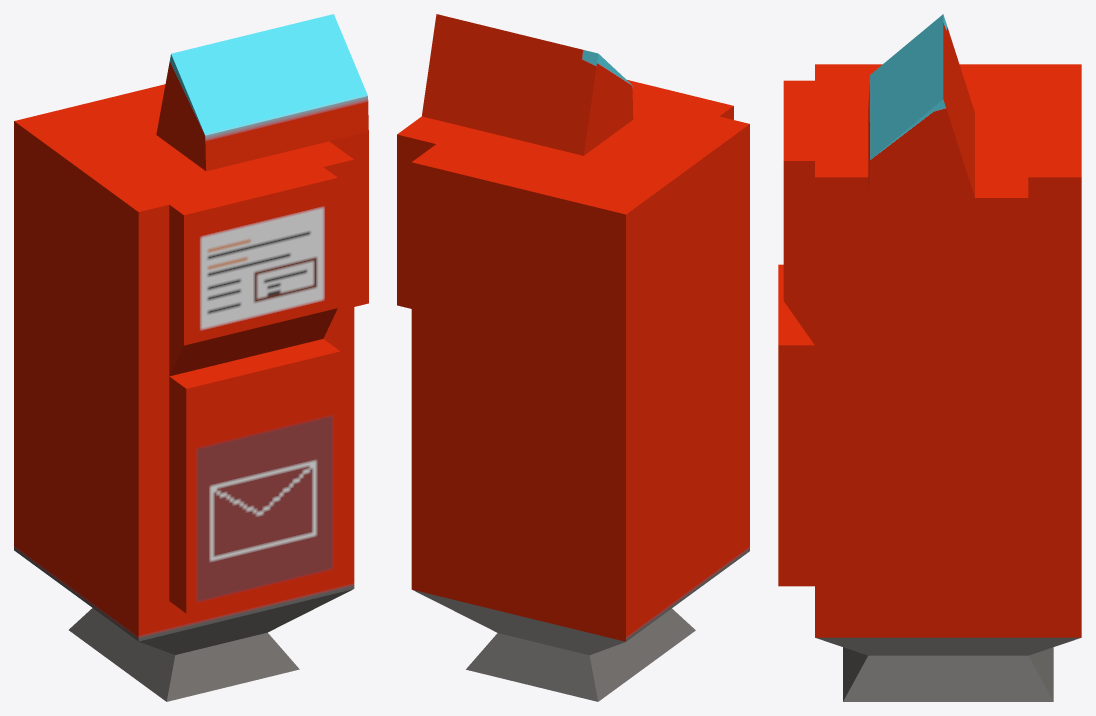
Rendered from mail_box.fbx.
3 views of the same model, side by side, from view 1: azimuth 30°, elevation 25°; view 2: azimuth 150°, elevation 25°; view 3: azimuth 270°, elevation 25° (orthographic). The views are drawn at different scales.
Visible parts, largest first — view 1: pasted__mail_box; view 2: pasted__mail_box; view 3: pasted__mail_box.
Part boxes in pixels (box(x1,y1,x2,y2)): pasted__mail_box: box(14, 14, 368, 701); pasted__mail_box: box(397, 14, 749, 701); pasted__mail_box: box(778, 14, 1081, 701).
Bounding box in the file's own units: 64.88 × 146 × 62.35.
